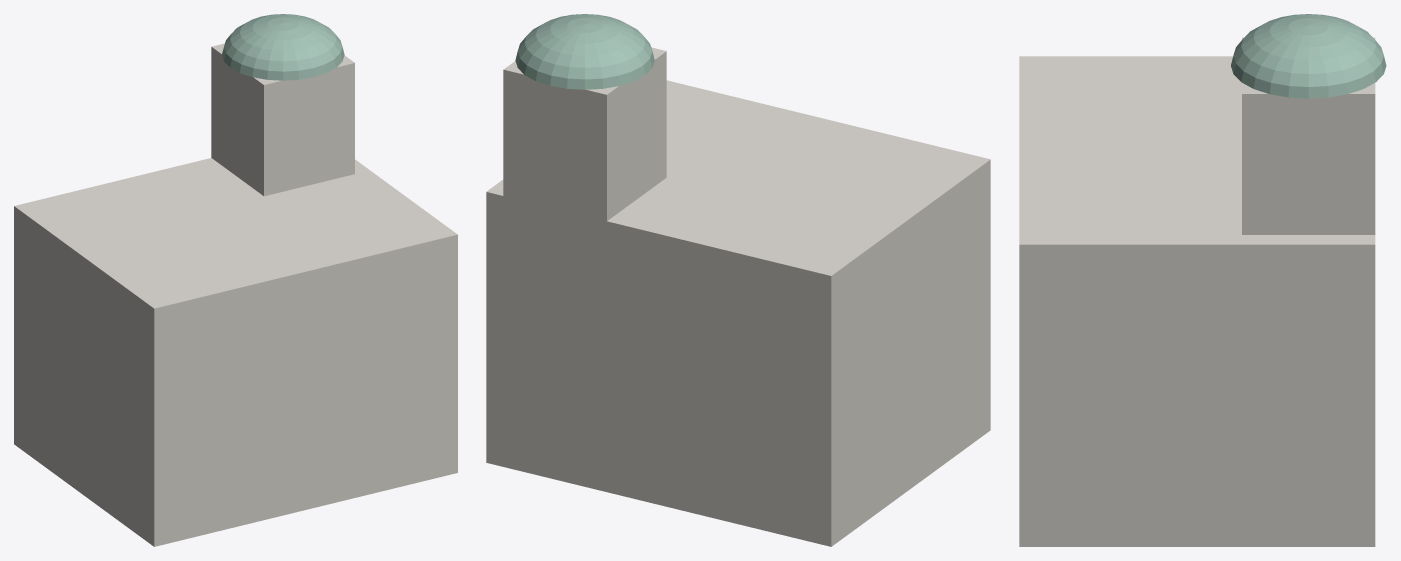
The model's file is ginza_wako.glb.
The picture shows the model from 3 angles, left to right: view 1: azimuth 30°, elevation 25°; view 2: azimuth 150°, elevation 25°; view 3: azimuth 270°, elevation 25°; orthographic projection. The views are drawn at different scales.
Parts seen in each view (by area): view 1: Cube, Cube.001, Sphere; view 2: Cube, Cube.001, Sphere; view 3: Cube, Cube.001, Sphere.
Boxes of the visible parts, <box> form: Cube: <box>14,158,457,546</box>; Cube.001: <box>211,43,354,196</box>; Sphere: <box>222,14,344,80</box>; Cube: <box>486,80,990,546</box>; Cube.001: <box>503,47,666,221</box>; Sphere: <box>515,14,654,89</box>; Cube: <box>1019,56,1375,546</box>; Cube.001: <box>1242,37,1375,234</box>; Sphere: <box>1231,14,1386,98</box>.
Size of the model in its own units: 40 by 48 by 33.
